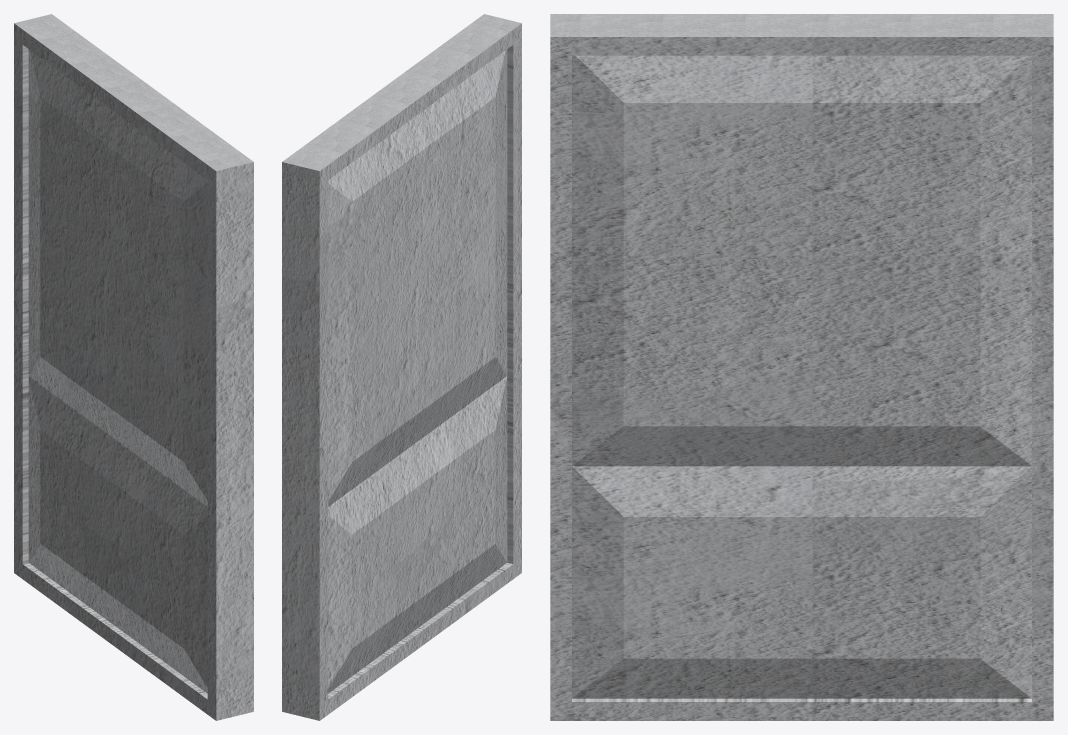
The model's file is Door.fbx.
3 renders of one model, left to right at view 1: azimuth 30°, elevation 25°; view 2: azimuth 150°, elevation 25°; view 3: azimuth 270°, elevation 25°, orthographic. The views are drawn at different scales.
Parts seen in each view (by area): view 1: Cube; view 2: Cube; view 3: Cube.
Boxes of the visible parts, x1,y1,x2,y2 form: Cube: (14,14,253,720); Cube: (282,14,521,720); Cube: (550,14,1053,720).
Size of the model in its own units: 15 by 180 by 120.
1 material, 1 textured.
